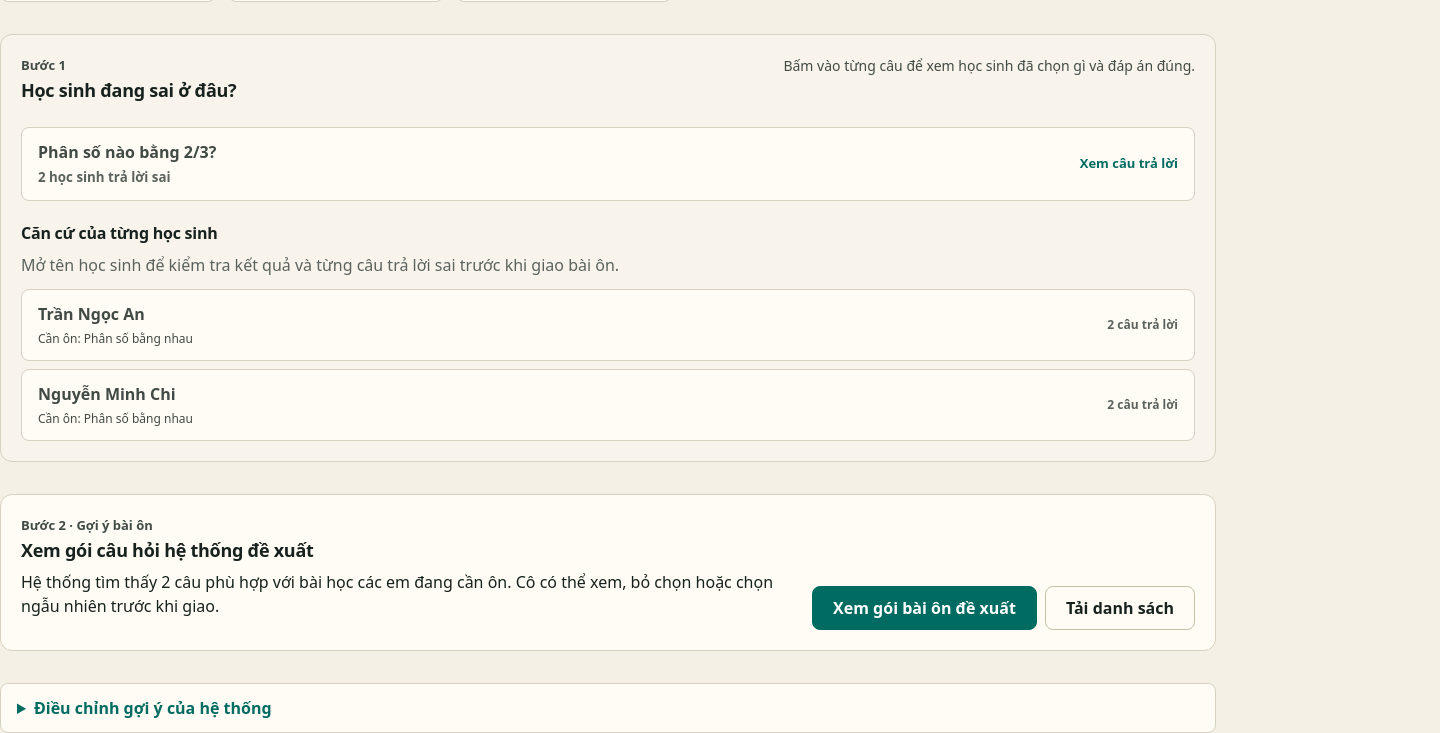
Scenario: teacher diagnosis override › persists a reasoned decision through the teacher backend API
(page scrolled)
Expected: the heading "Căn cứ của từng học sinh" is shown, [21,222,217,244]
Click the heading "Điều chỉnh gợi ý của hệ thống".
click(153, 708)  # box [34,697,272,719]
(page scrolled)
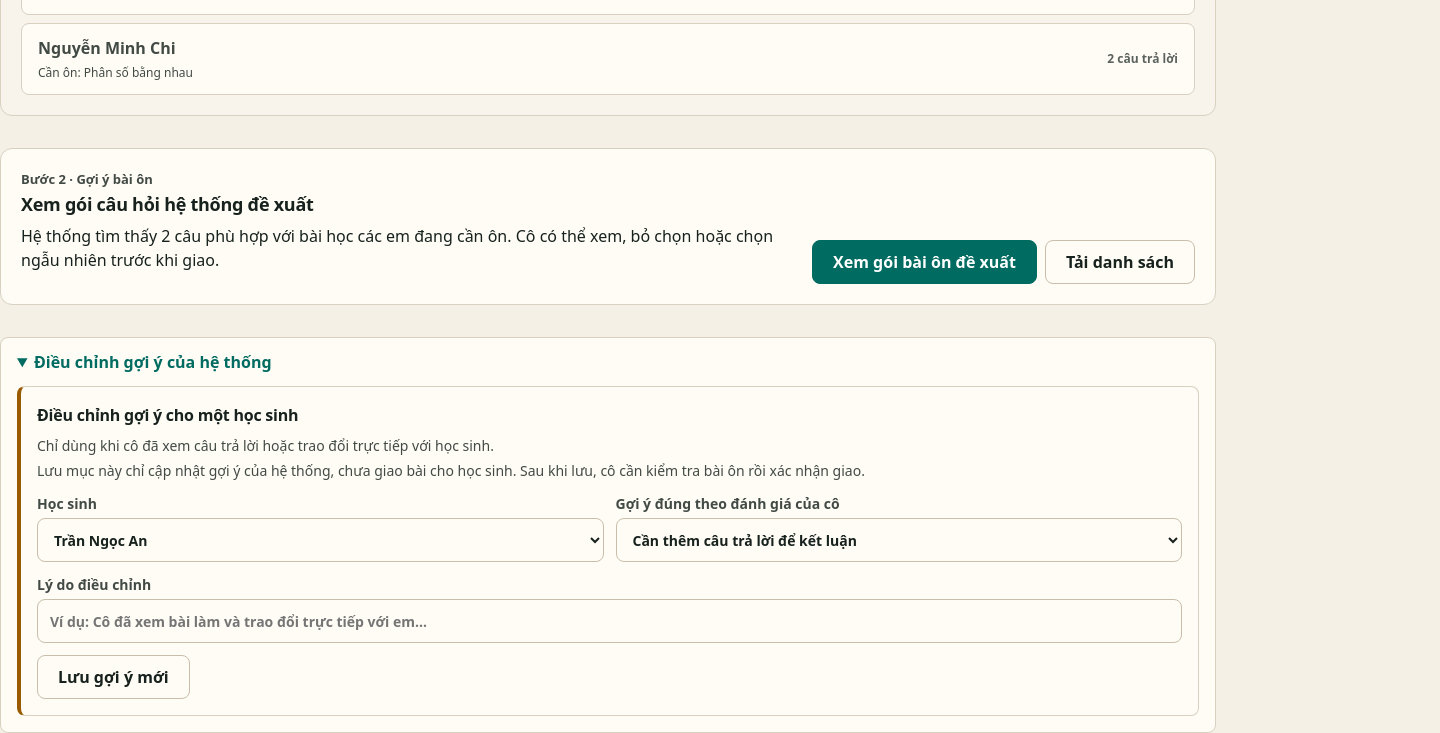
Expected: the form "Điều chỉnh gợi ý cho một học sinh" is shown, [17,386,1199,716]
Select "Cần ôn bài: Ý nghĩa và thứ tự của tỉ số" in the dropdown labelled "Gợi ý đúng theo đánh giá của cô" at [899, 540], box [616,518,1182,562]
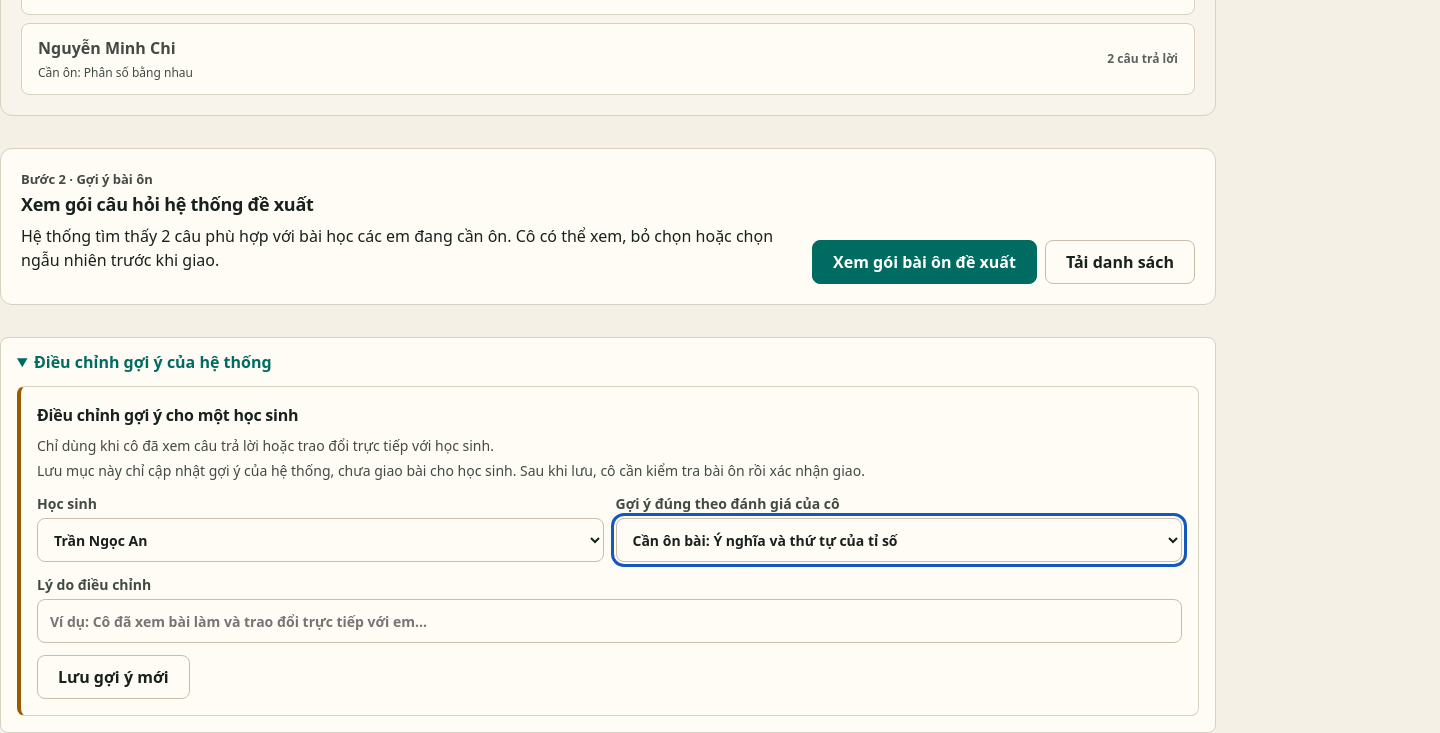
Type "Đã trao đổi trực tiếp và xem cách làm của em." into the field labelled "Lý do điều chỉnh".
click(610, 621); type("Đã trao đổi trực tiếp và xem cách làm của em.")  # box [37,599,1182,643]
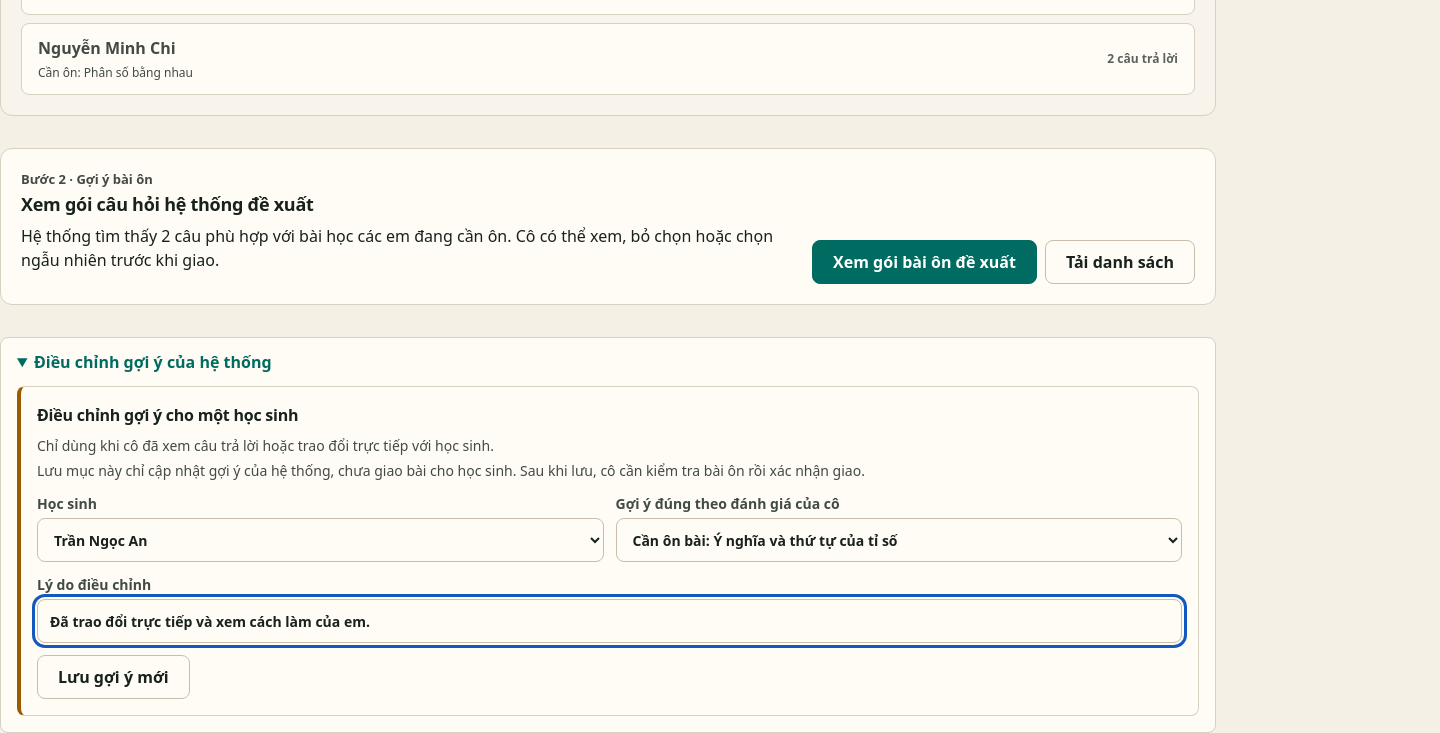
Click the button "Lưu gợi ý mới".
click(113, 677)  # box [37,655,190,699]
(page scrolled)
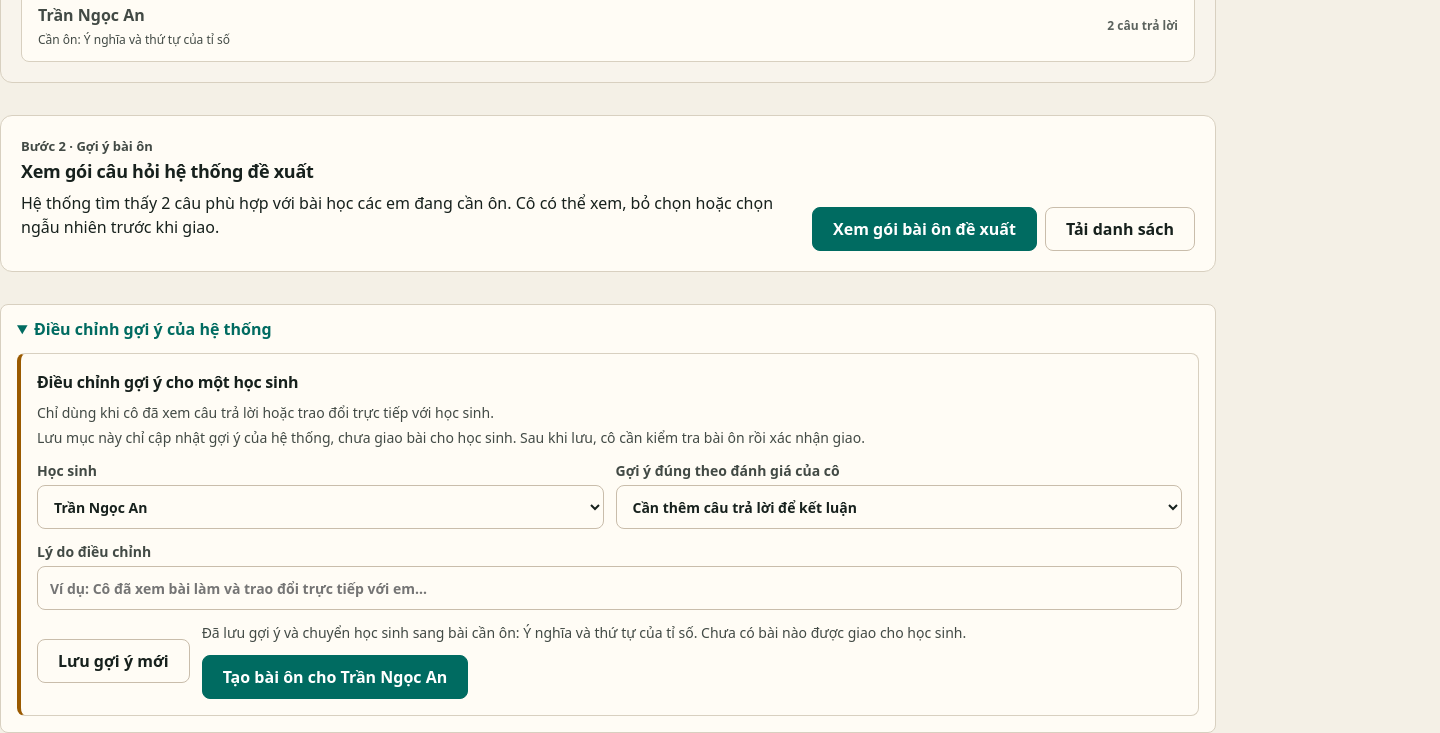
Expected: the text "Chưa có bài nào được giao cho học sinh" is shown, [202,623,966,642]
